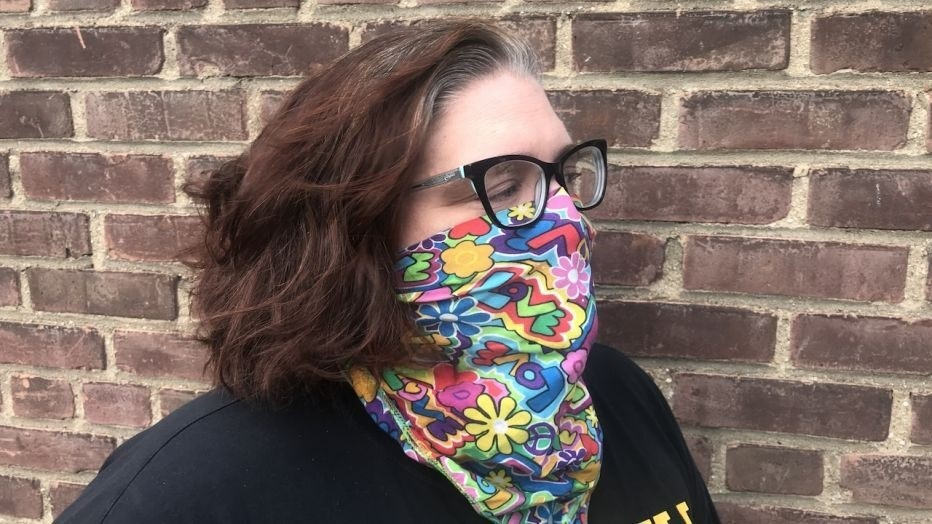face_with_mask: (314, 37, 599, 400)
